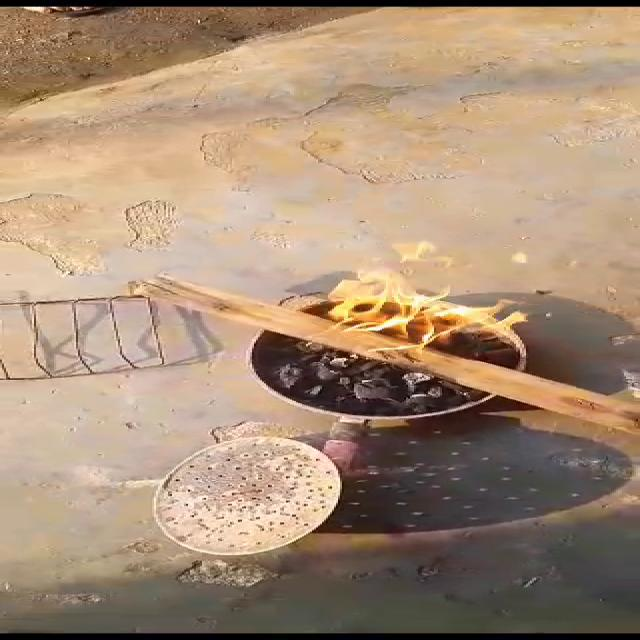Fire: (308, 238, 548, 371)
